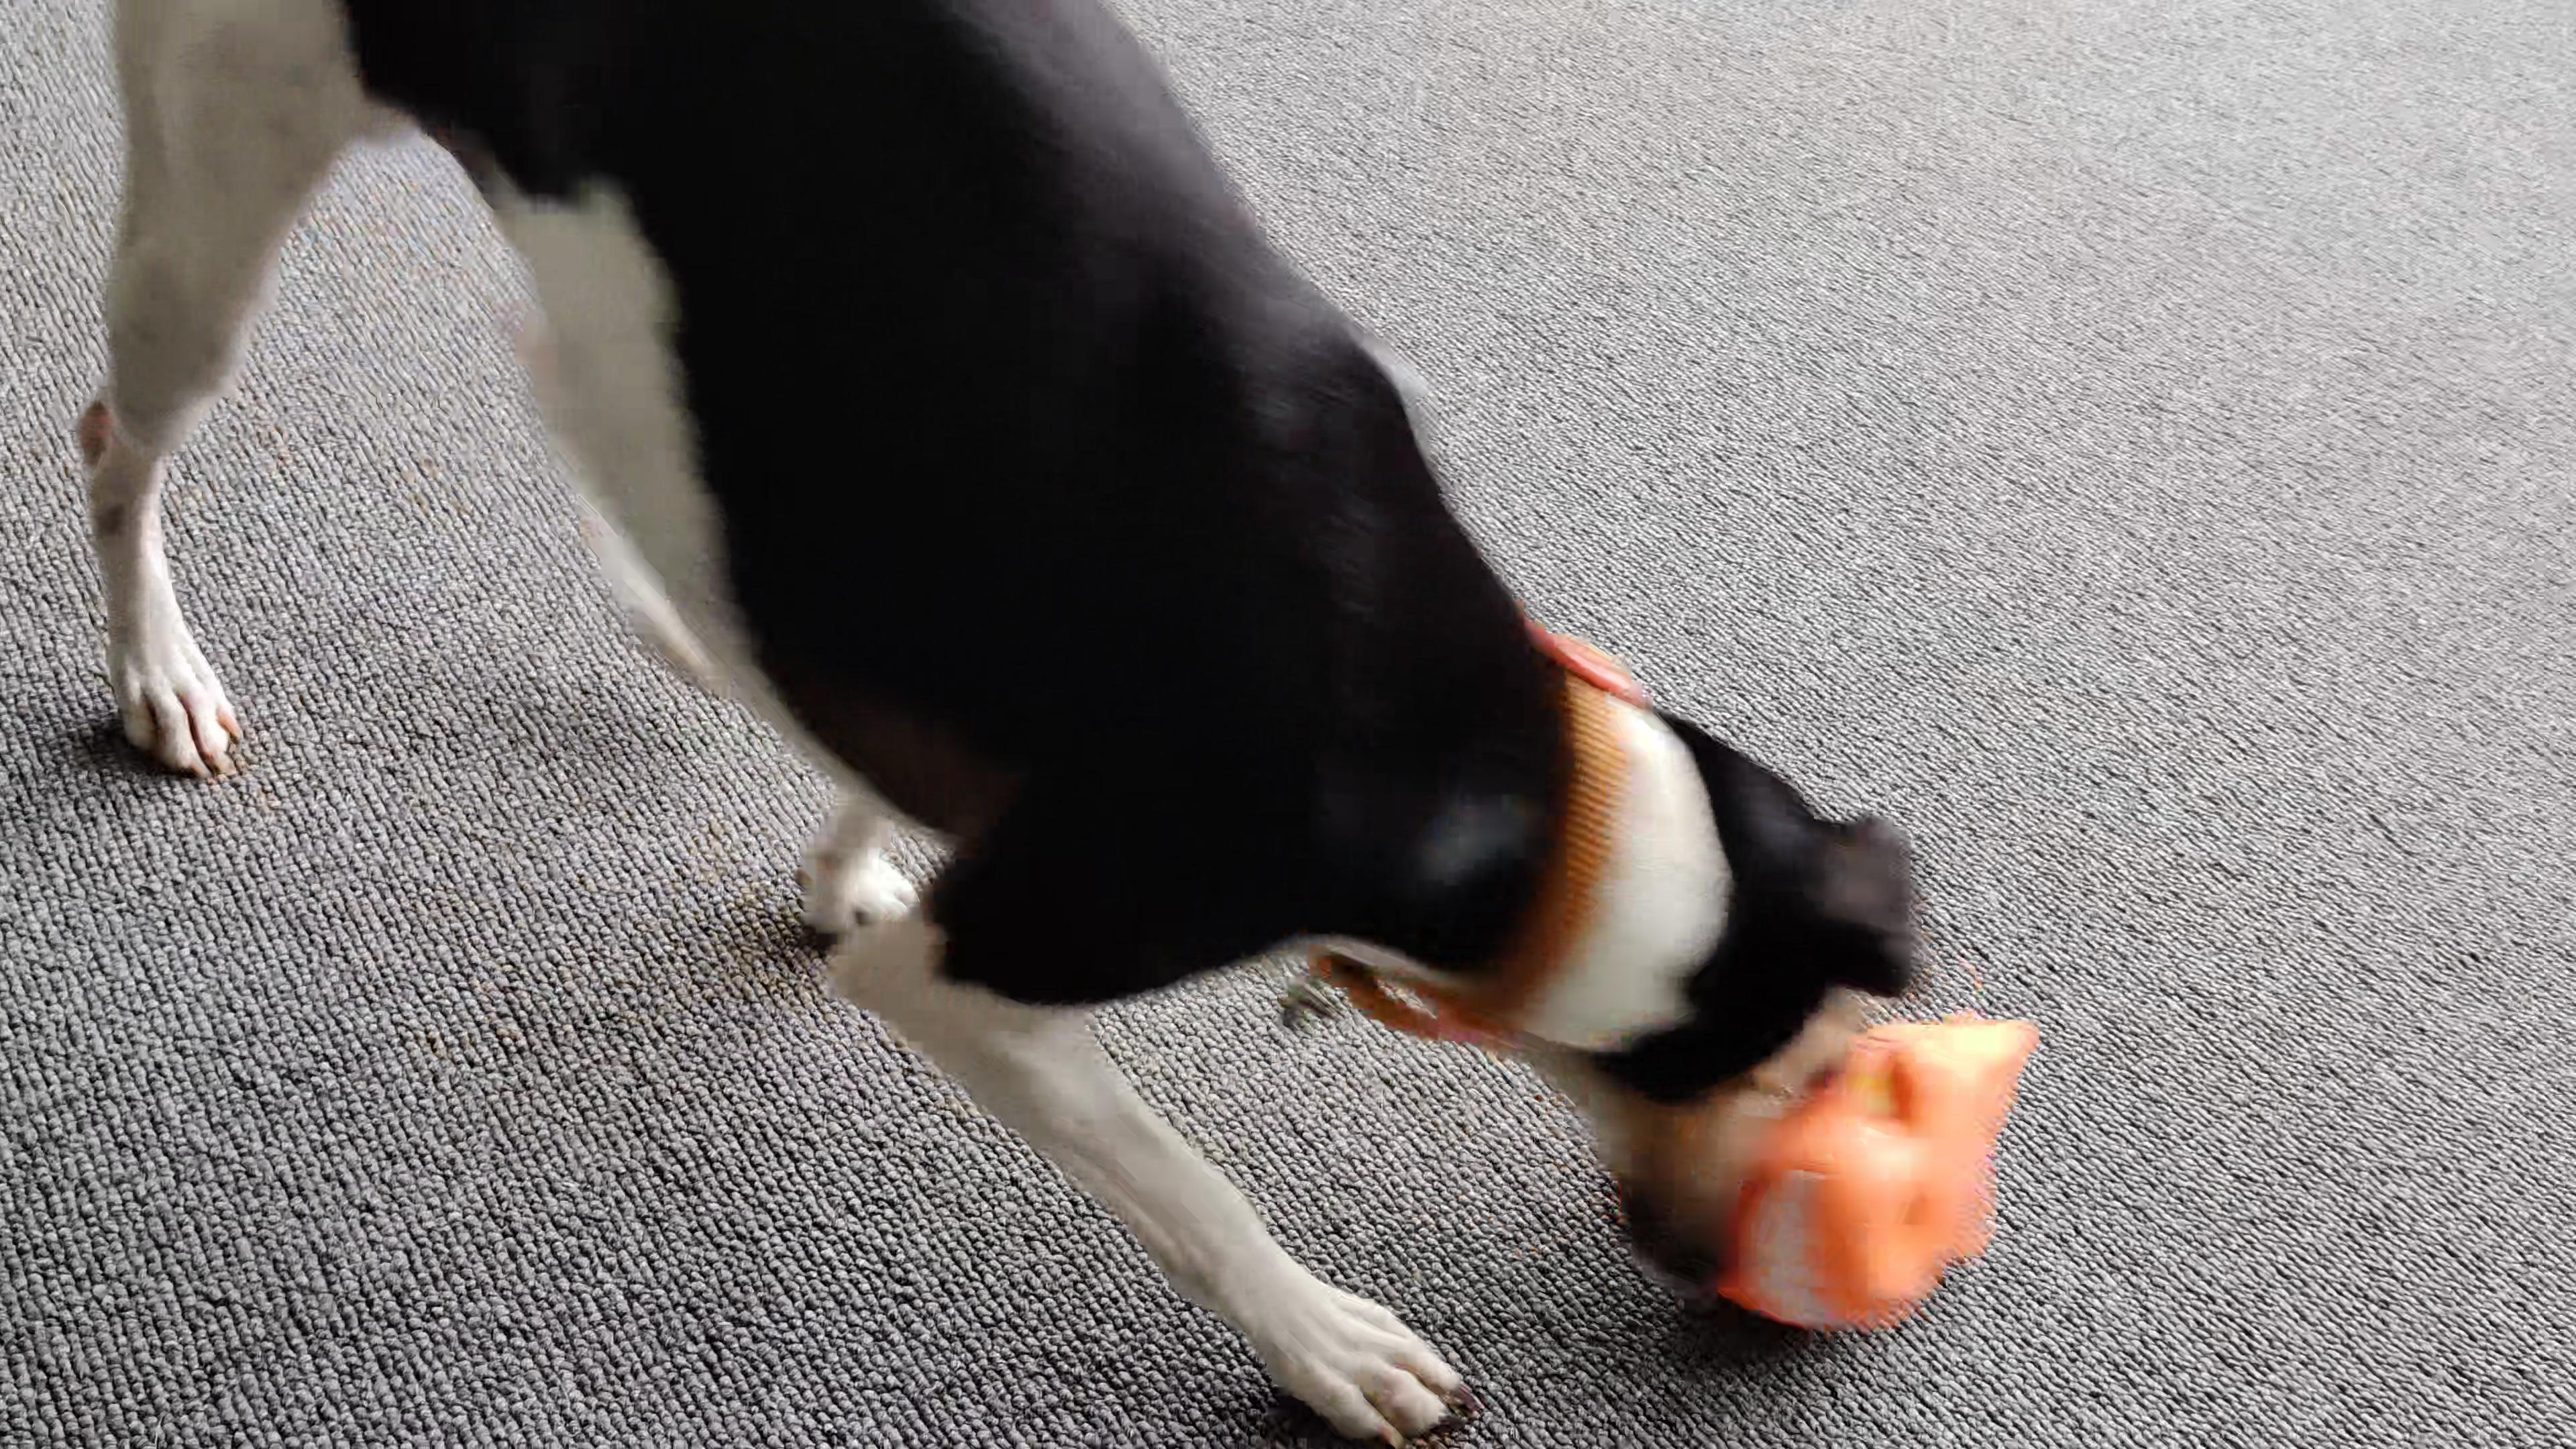Dog: (58, 0, 1923, 1449)
